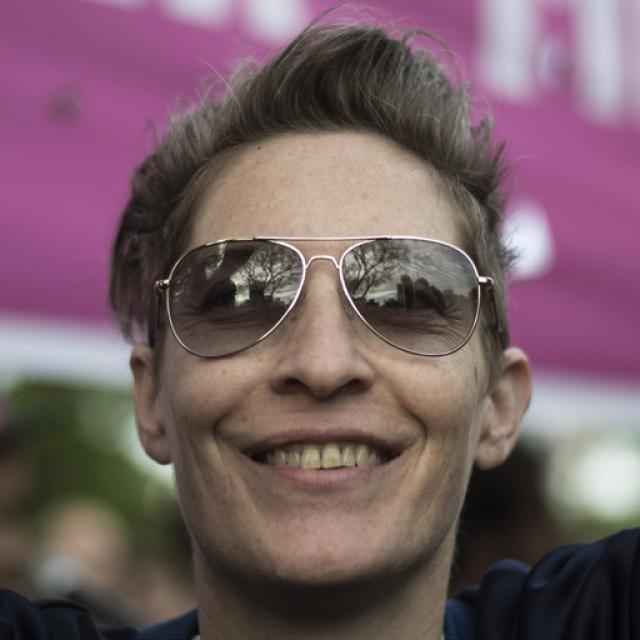happy: (162, 131, 488, 589)
